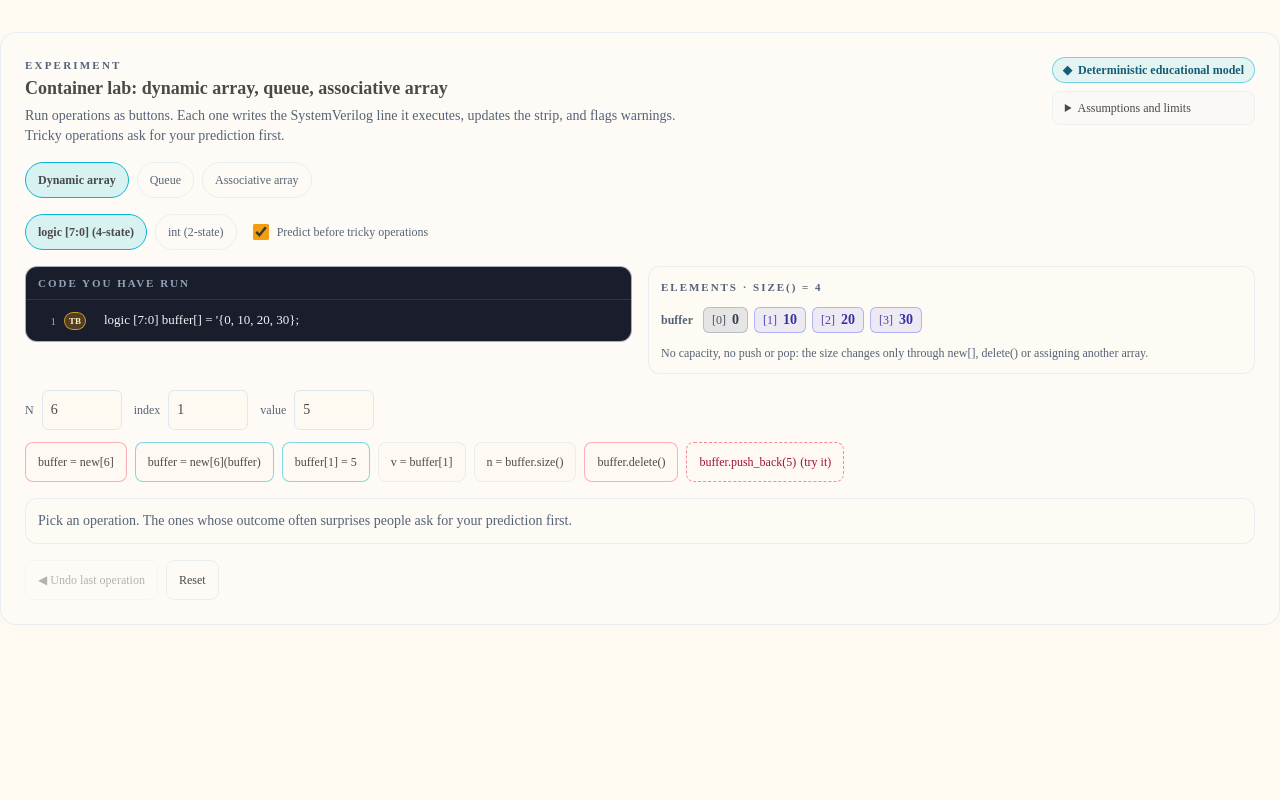
Test: DynamicStructureVisualizer (container lab) › undo restores the previous state
What coordinates should you click on to do the following:
click the checkbox labelled "Predict before tricky operations"
I would click on:
 (261, 232)
Its box is [253,224,269,240].
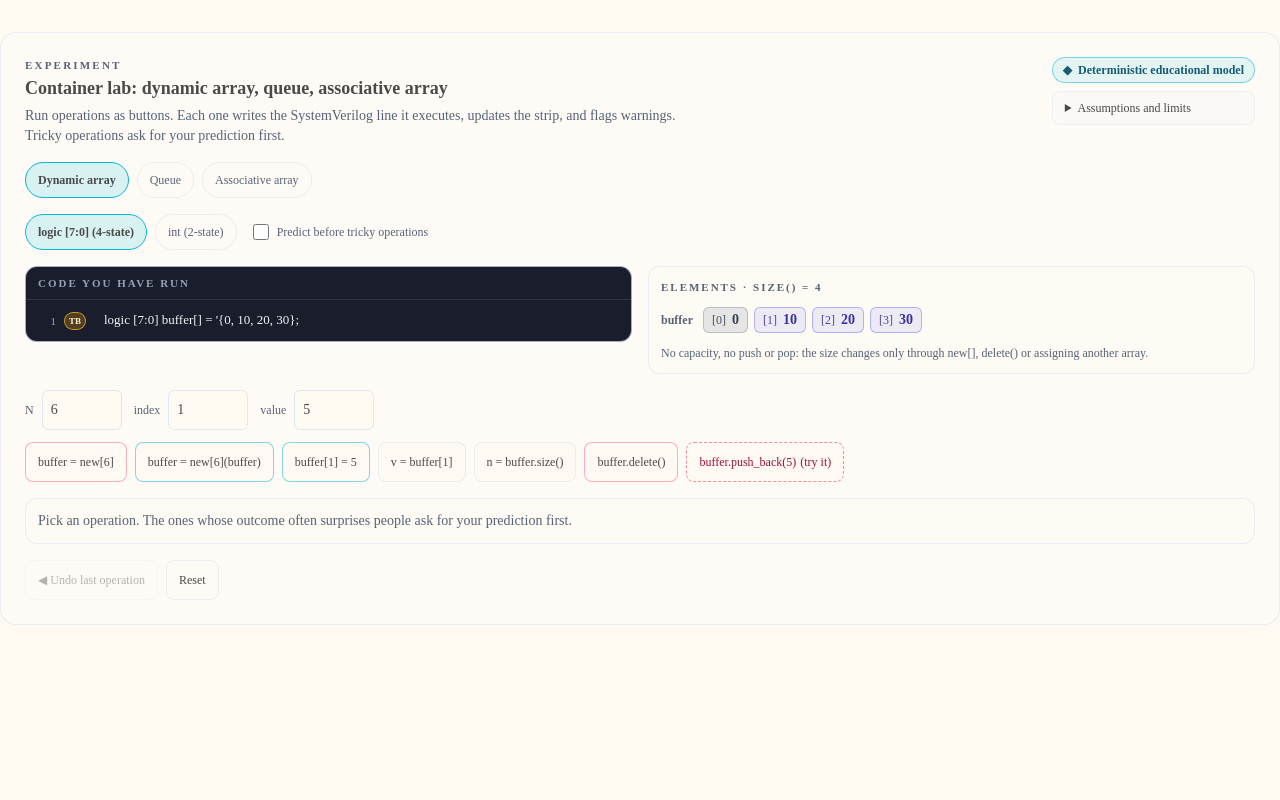
What coordinates should you click on to do the following:
click the button "buffer.delete()"
I would click on:
 (631, 462)
Its box is [584,442,678,482].
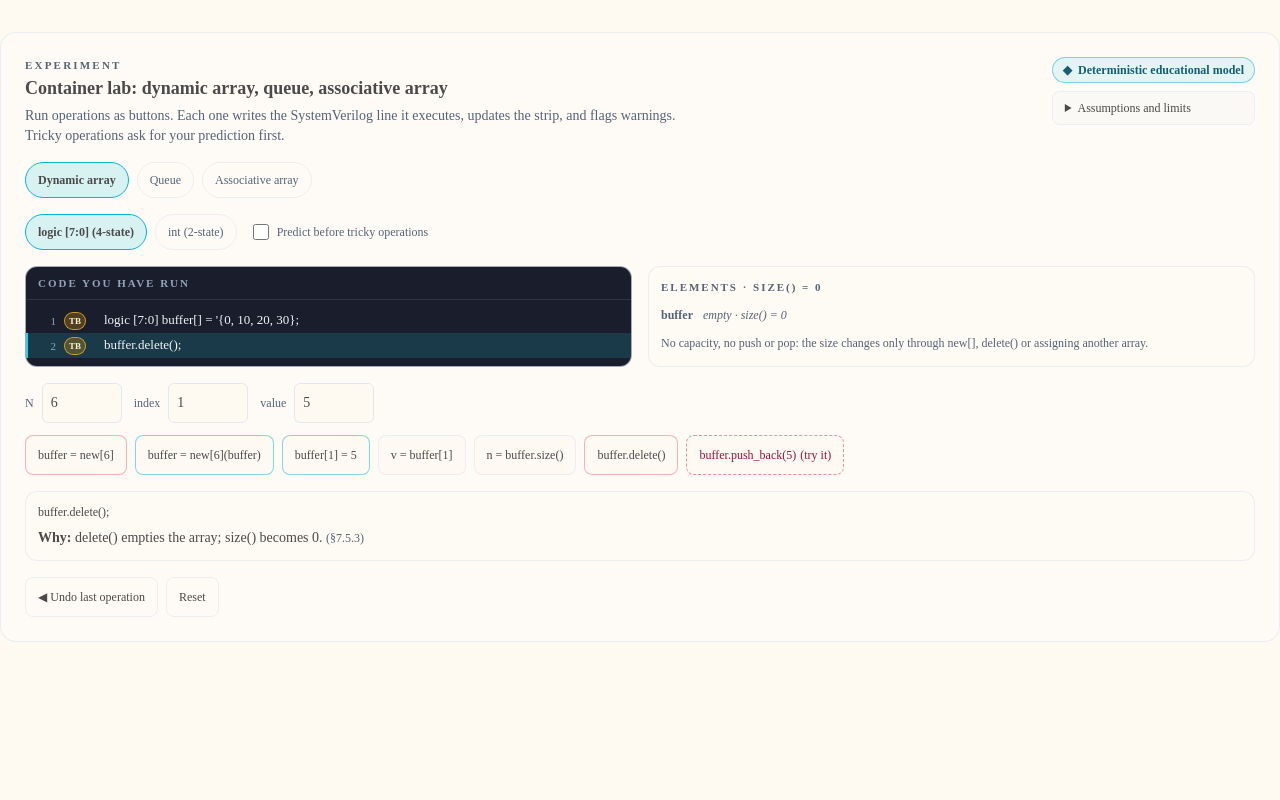
Result: the text "Elements · size() = 0" is shown at [661,280,822,292]
What coordinates should you click on to do the following:
click the button "◀ Undo last operation"
I would click on:
 (91, 597)
Its box is [25,577,158,617].
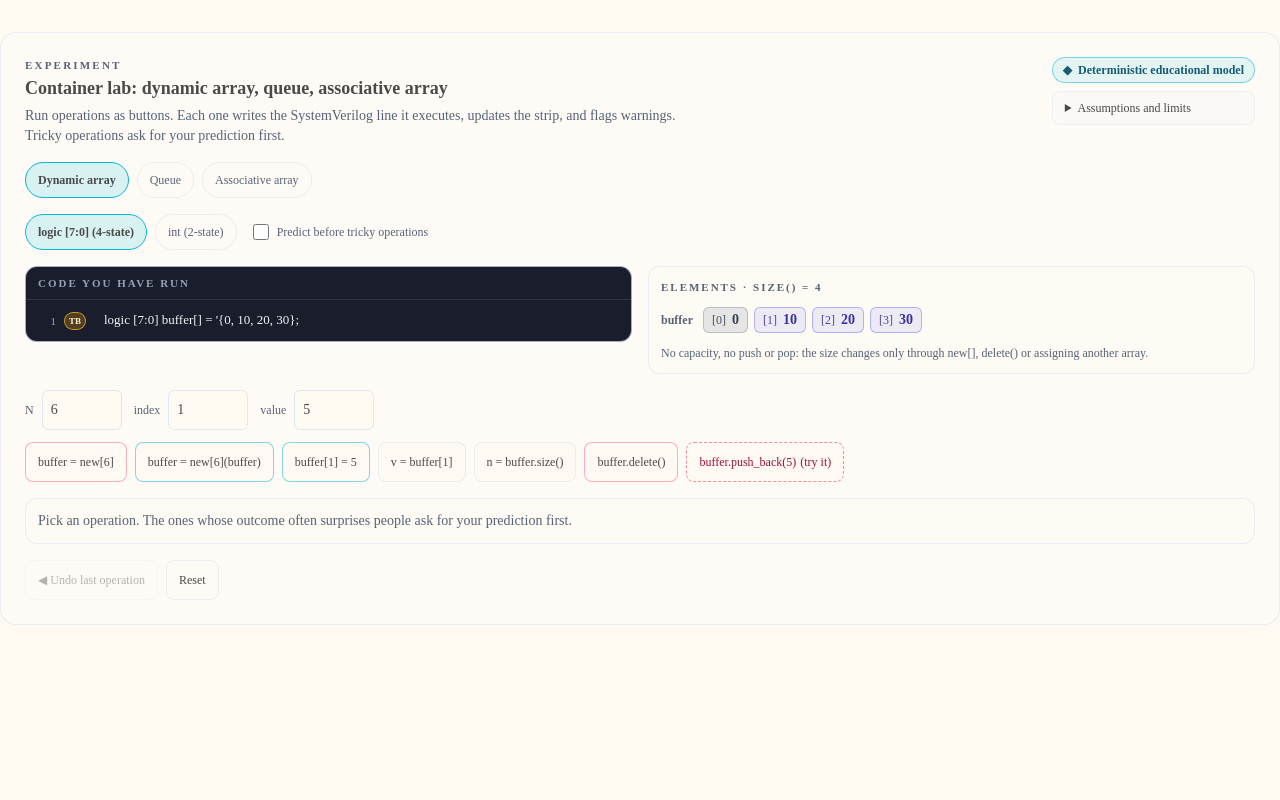
Result: the text "Elements · size() = 4" is shown at [661,280,822,292]
